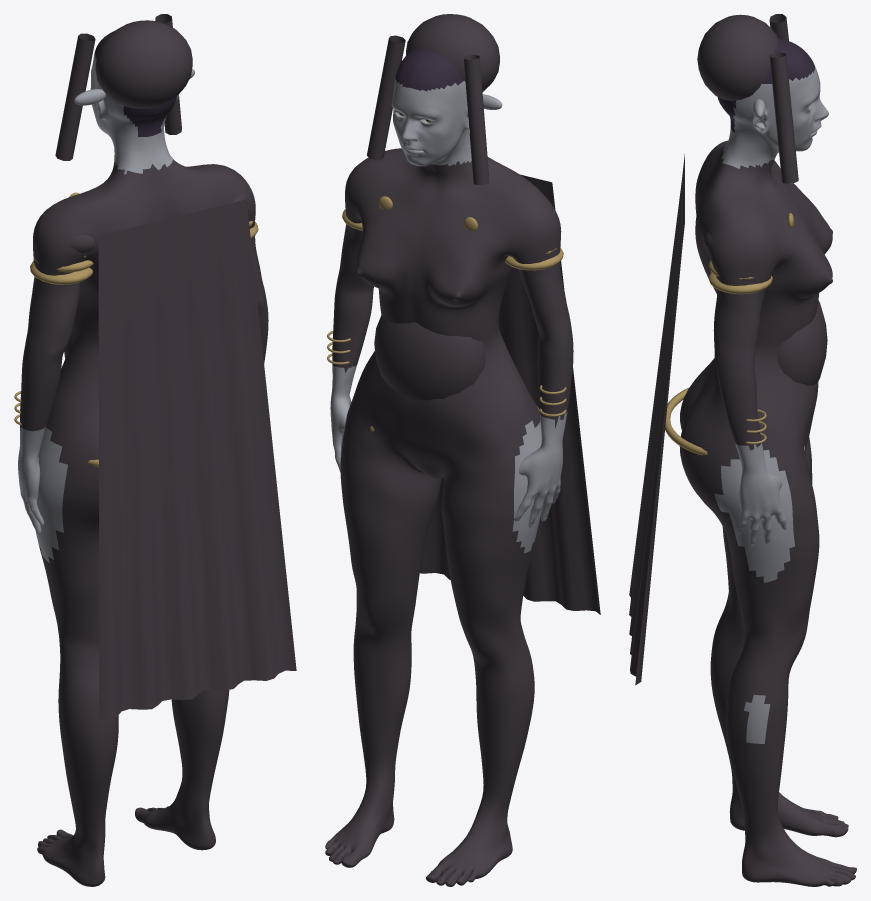
The model's file is party_night_elf.glb.
3 renders of one model, left to right at view 1: azimuth 30°, elevation 25°; view 2: azimuth 150°, elevation 25°; view 3: azimuth 270°, elevation 25°, orthographic. The views are drawn at different scales.
Visible parts, largest first — view 1: Cloak, Anatomy, Hood, HoodEdge.001, ShoulderLamella.007, HoodEdge; view 2: Anatomy, Cloak, DrapedBelly, Hood, HoodEdge.001, HoodEdge; view 3: Anatomy, Cloak, Hood, DrapedBelly, HoodEdge, Belt, ShoulderLamella.003.
Part boxes in pixels (x1,y1,x2,y2): Cloak: [98, 199, 296, 719]; Anatomy: [18, 32, 268, 886]; Hood: [95, 20, 192, 108]; HoodEdge.001: [55, 33, 95, 160]; ShoulderLamella.007: [30, 261, 93, 284]; HoodEdge: [155, 14, 181, 134]; Anatomy: [325, 48, 573, 886]; Cloak: [420, 174, 600, 614]; DrapedBelly: [374, 315, 485, 400]; Hood: [406, 14, 499, 91]; HoodEdge.001: [463, 55, 489, 184]; HoodEdge: [367, 35, 405, 160]; Anatomy: [679, 38, 856, 886]; Cloak: [629, 154, 684, 685]; Hood: [697, 14, 778, 101]; DrapedBelly: [777, 300, 827, 385]; HoodEdge: [769, 52, 798, 183]; Belt: [665, 387, 707, 455]; ShoulderLamella.003: [708, 272, 772, 294].
Size of the model in its own units: 0.6124 by 2.04 by 0.5067.
